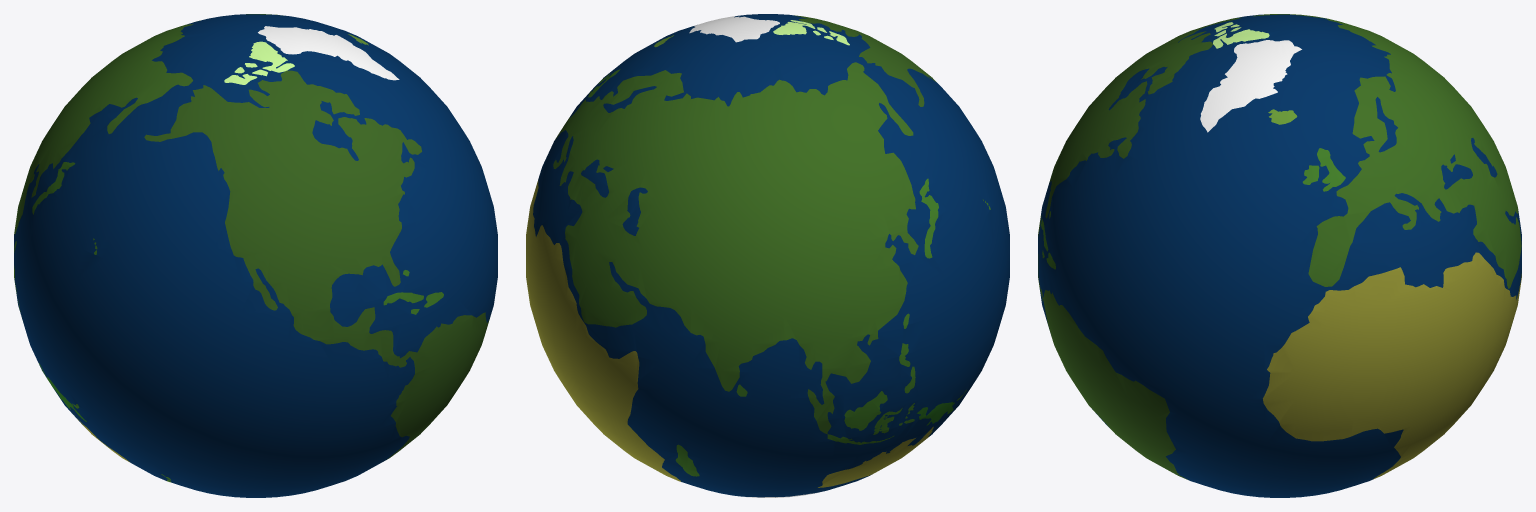
Rendered from earth2.fbx.
The picture shows the model from 3 angles, left to right: view 1: azimuth 30°, elevation 25°; view 2: azimuth 150°, elevation 25°; view 3: azimuth 270°, elevation 25°; orthographic projection.
Parts seen in each view (by area): view 1: Model; view 2: Model; view 3: Model.
Boxes of the visible parts, <box> form: Model: <box>14,14,497,497</box>; Model: <box>526,14,1009,497</box>; Model: <box>1038,14,1521,497</box>.
Bounding box in the file's own units: 313 × 312 × 313.
